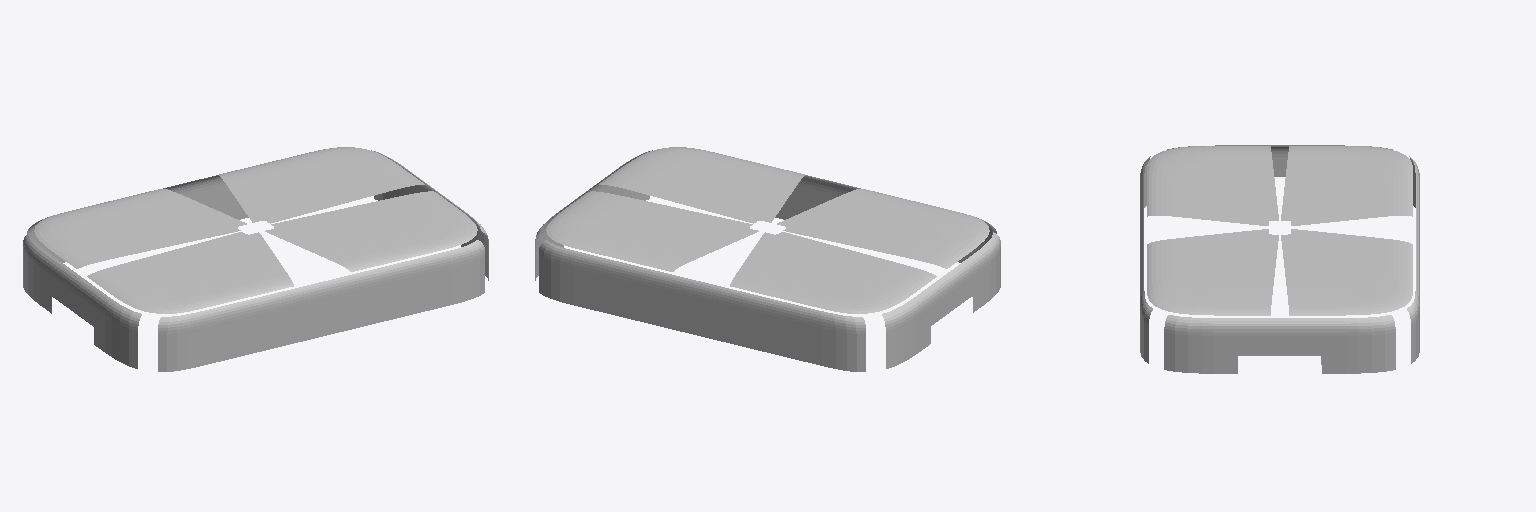
Rendered from parte_transparente2_estadio.obj.
3 renders of one model, left to right at view 1: azimuth 30°, elevation 25°; view 2: azimuth 150°, elevation 25°; view 3: azimuth 270°, elevation 25°, orthographic.
Parts seen in each view (by area): view 1: walls/roof; view 2: walls/roof; view 3: walls/roof.
Boxes of the visible parts, <box> form: walls/roof: <box>23,147,488,371</box>; walls/roof: <box>535,147,1000,371</box>; walls/roof: <box>1140,145,1419,373</box>.
Size of the model in its own units: 16.94 by 2.5 by 11.23.